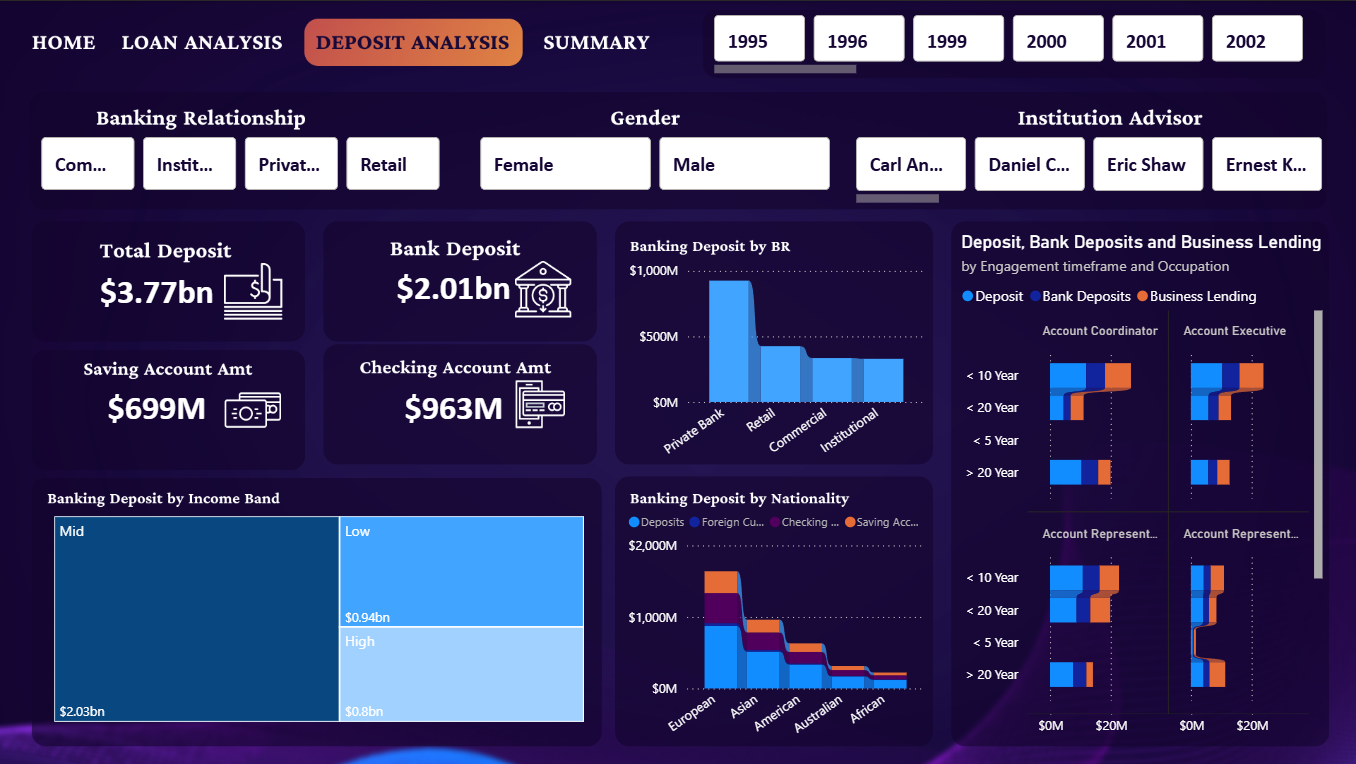

Layout of this report page (visuals, bound fields, positions):
{"tool":"powerbi","page":{"name":"Deposit","canvas":[1280,720],"ordinal":2},"visuals":[{"type":"actionButton","box":[509.9,26,107.7,25.1],"z":0},{"type":"actionButton","box":[25.1,26,67.3,25.1],"z":1000},{"type":"actionButton","box":[113.1,26,155.3,25.1],"z":2000},{"type":"advancedSlicerVisual","fields":{"Values":["Clients - Banking.Year"]},"box":[669.6,13.4,571.2,57.3],"z":3000},{"type":"advancedSlicerVisual","fields":{"Values":["Clients - Banking.GenderId"]},"box":[448,128.4,340.2,50.3],"z":4000},{"type":"advancedSlicerVisual","fields":{"Values":["Investment Advisor.Investment Advisor"]},"box":[803.5,128.4,450.7,64.6],"z":5000},{"type":"advancedSlicerVisual","fields":{"Values":["Banking Relationship.Banking Relationship"]},"box":[34.1,128.4,388.7,50.3],"z":6000},{"type":"card","fields":{"Values":["Clients - Banking.Total Deposit"]},"box":[67.3,244.2,161.8,57.9],"z":7000},{"type":"card","fields":{"Values":["Sum(Clients - Banking.Checking Accounts)"]},"box":[347.4,353.7,161.8,57.9],"z":8000},{"type":"card","fields":{"Values":["Sum(Clients - Banking.Bank Deposits)"]},"box":[347.4,240.6,161.6,57.5],"z":9000},{"type":"card","fields":{"Values":["Sum(Clients - Banking.Saving Accounts)"]},"box":[67.3,353.7,161.8,57.9],"z":10000},{"type":"treemap","fields":{"Group":["Clients - Banking.Income Band"],"Values":["Clients - Banking.Total Deposit"]},"box":[46.3,481.4,509.7,203.9],"z":11000},{"type":"columnChart","fields":{"Category":["Clients - Banking.Nationality"],"Y":["Sum(Clients - Banking.Bank Deposits)","Sum(Clients - Banking.Foreign Currency Account)","Sum(Clients - Banking.Checking Accounts)","Sum(Clients - Banking.Saving Accounts)"]},"box":[588.1,472.9,289.8,241.7],"z":12000},{"type":"columnChart","fields":{"Category":["Banking Relationship.Banking Relationship"],"Y":["Sum(Clients - Banking.Bank Deposits)"]},"box":[589,240.7,289.8,205.8],"z":12001},{"type":"barChart","fields":{"Category":["Clients - Banking.Engagement timeframe"],"Rows":["Clients - Banking.Occupation"],"Y":["Clients - Banking.Total Deposit","Sum(Clients - Banking.Bank Deposits)","Sum(Clients - Banking.Business Lending)"]},"box":[902.4,217.1,351.2,486.1],"z":12002}]}

Visuals, with their boxes in screenshot pixels (x1, y1, x2, y2), scaled from the page's 1280x720 canvas onto the 1356x764 screenshot:
actionButton: 540, 28, 654, 54
actionButton: 27, 28, 98, 54
actionButton: 120, 28, 284, 54
advancedSlicerVisual - Clients - Banking.Year: 709, 14, 1314, 75
advancedSlicerVisual - Clients - Banking.GenderId: 475, 136, 835, 190
advancedSlicerVisual - Investment Advisor.Investment Advisor: 851, 136, 1329, 205
advancedSlicerVisual - Banking Relationship.Banking Relationship: 36, 136, 448, 190
card - Clients - Banking.Total Deposit: 71, 259, 243, 321
card - Sum(Clients - Banking.Checking Accounts): 368, 375, 539, 437
card - Sum(Clients - Banking.Bank Deposits): 368, 255, 539, 316
card - Sum(Clients - Banking.Saving Accounts): 71, 375, 243, 437
treemap - Clients - Banking.Income Band x Clients - Banking.Total Deposit: 49, 511, 589, 727
columnChart - Clients - Banking.Nationality x Sum(Clients - Banking.Bank Deposits): 623, 502, 930, 758
columnChart - Banking Relationship.Banking Relationship x Sum(Clients - Banking.Bank Deposits): 624, 255, 931, 474
barChart - Clients - Banking.Engagement timeframe x Clients - Banking.Occupation: 956, 230, 1328, 746
